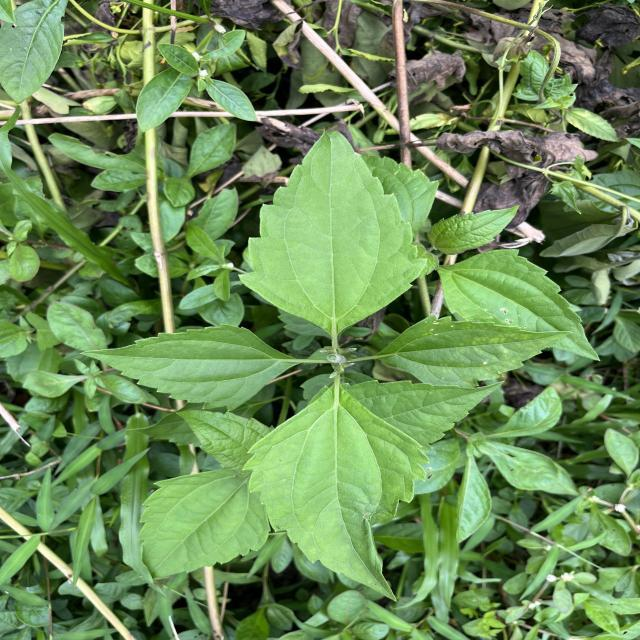Chromolaena odorata: (238, 384, 436, 605), (234, 125, 434, 338), (75, 320, 298, 416)
